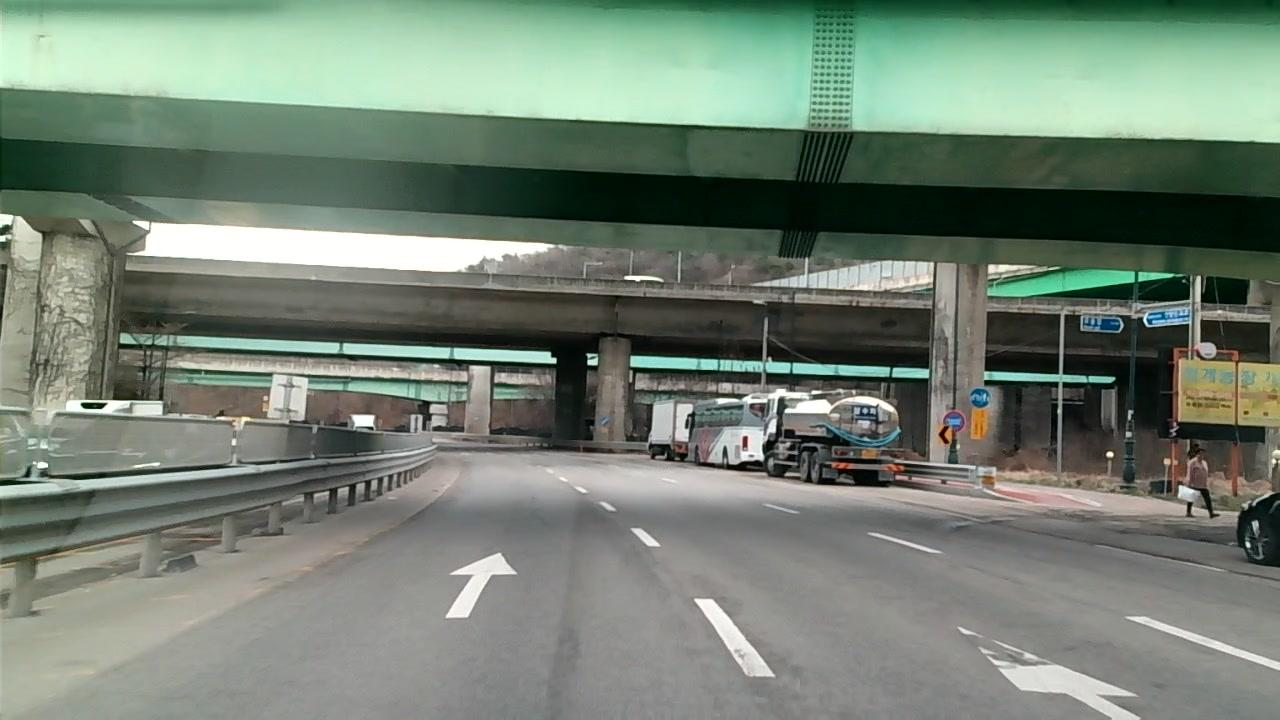banner: (1030, 532, 1141, 552), (1142, 550, 1216, 567), (1220, 565, 1280, 584)
